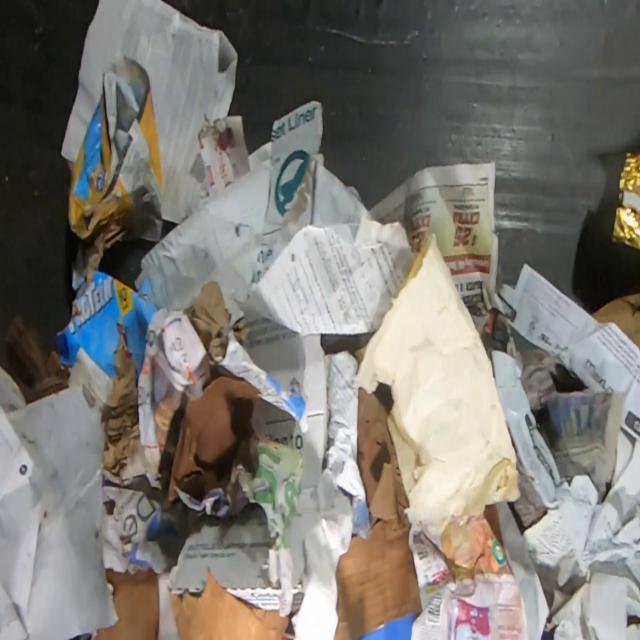cardboard: (68, 56, 163, 252), (57, 264, 162, 380), (168, 566, 294, 640), (92, 566, 158, 639), (590, 294, 640, 350)
soft_plastic: (611, 150, 640, 250)
